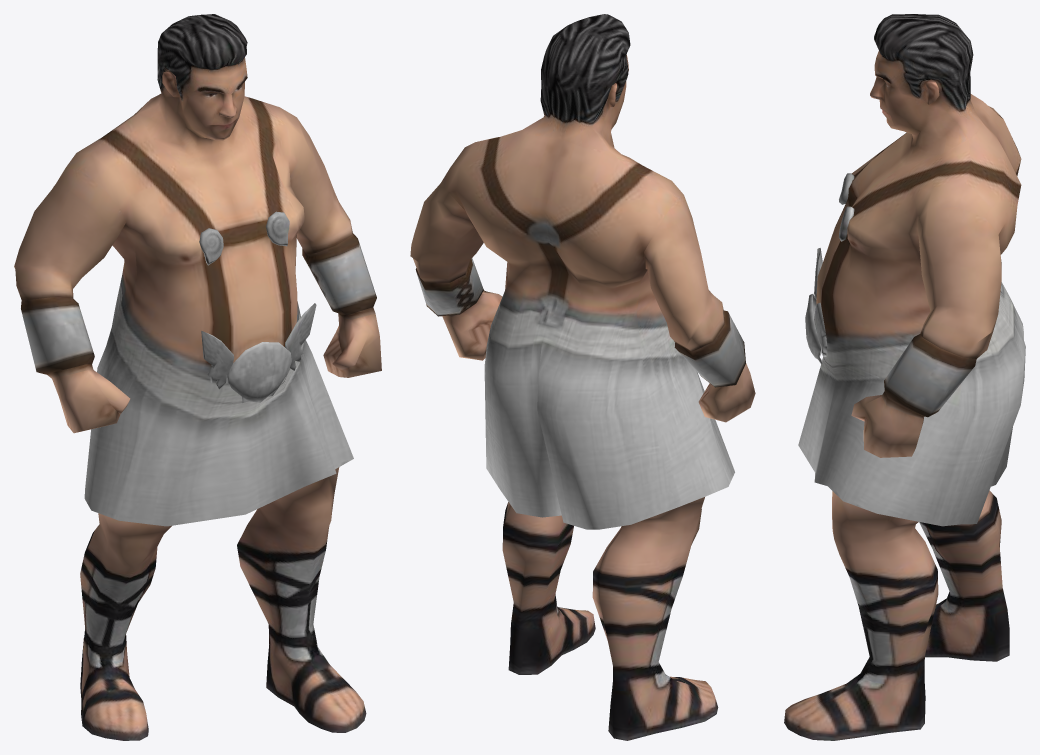
Rendered from body-heavyarchers.glb.
The picture shows the model from 3 angles, left to right: view 1: azimuth 30°, elevation 25°; view 2: azimuth 150°, elevation 25°; view 3: azimuth 270°, elevation 25°; orthographic projection. The views are drawn at different scales.
Bounding box in the file's own units: 1.06 × 2.12 × 0.6933.
Materials: 1 (1 with a texture image).
